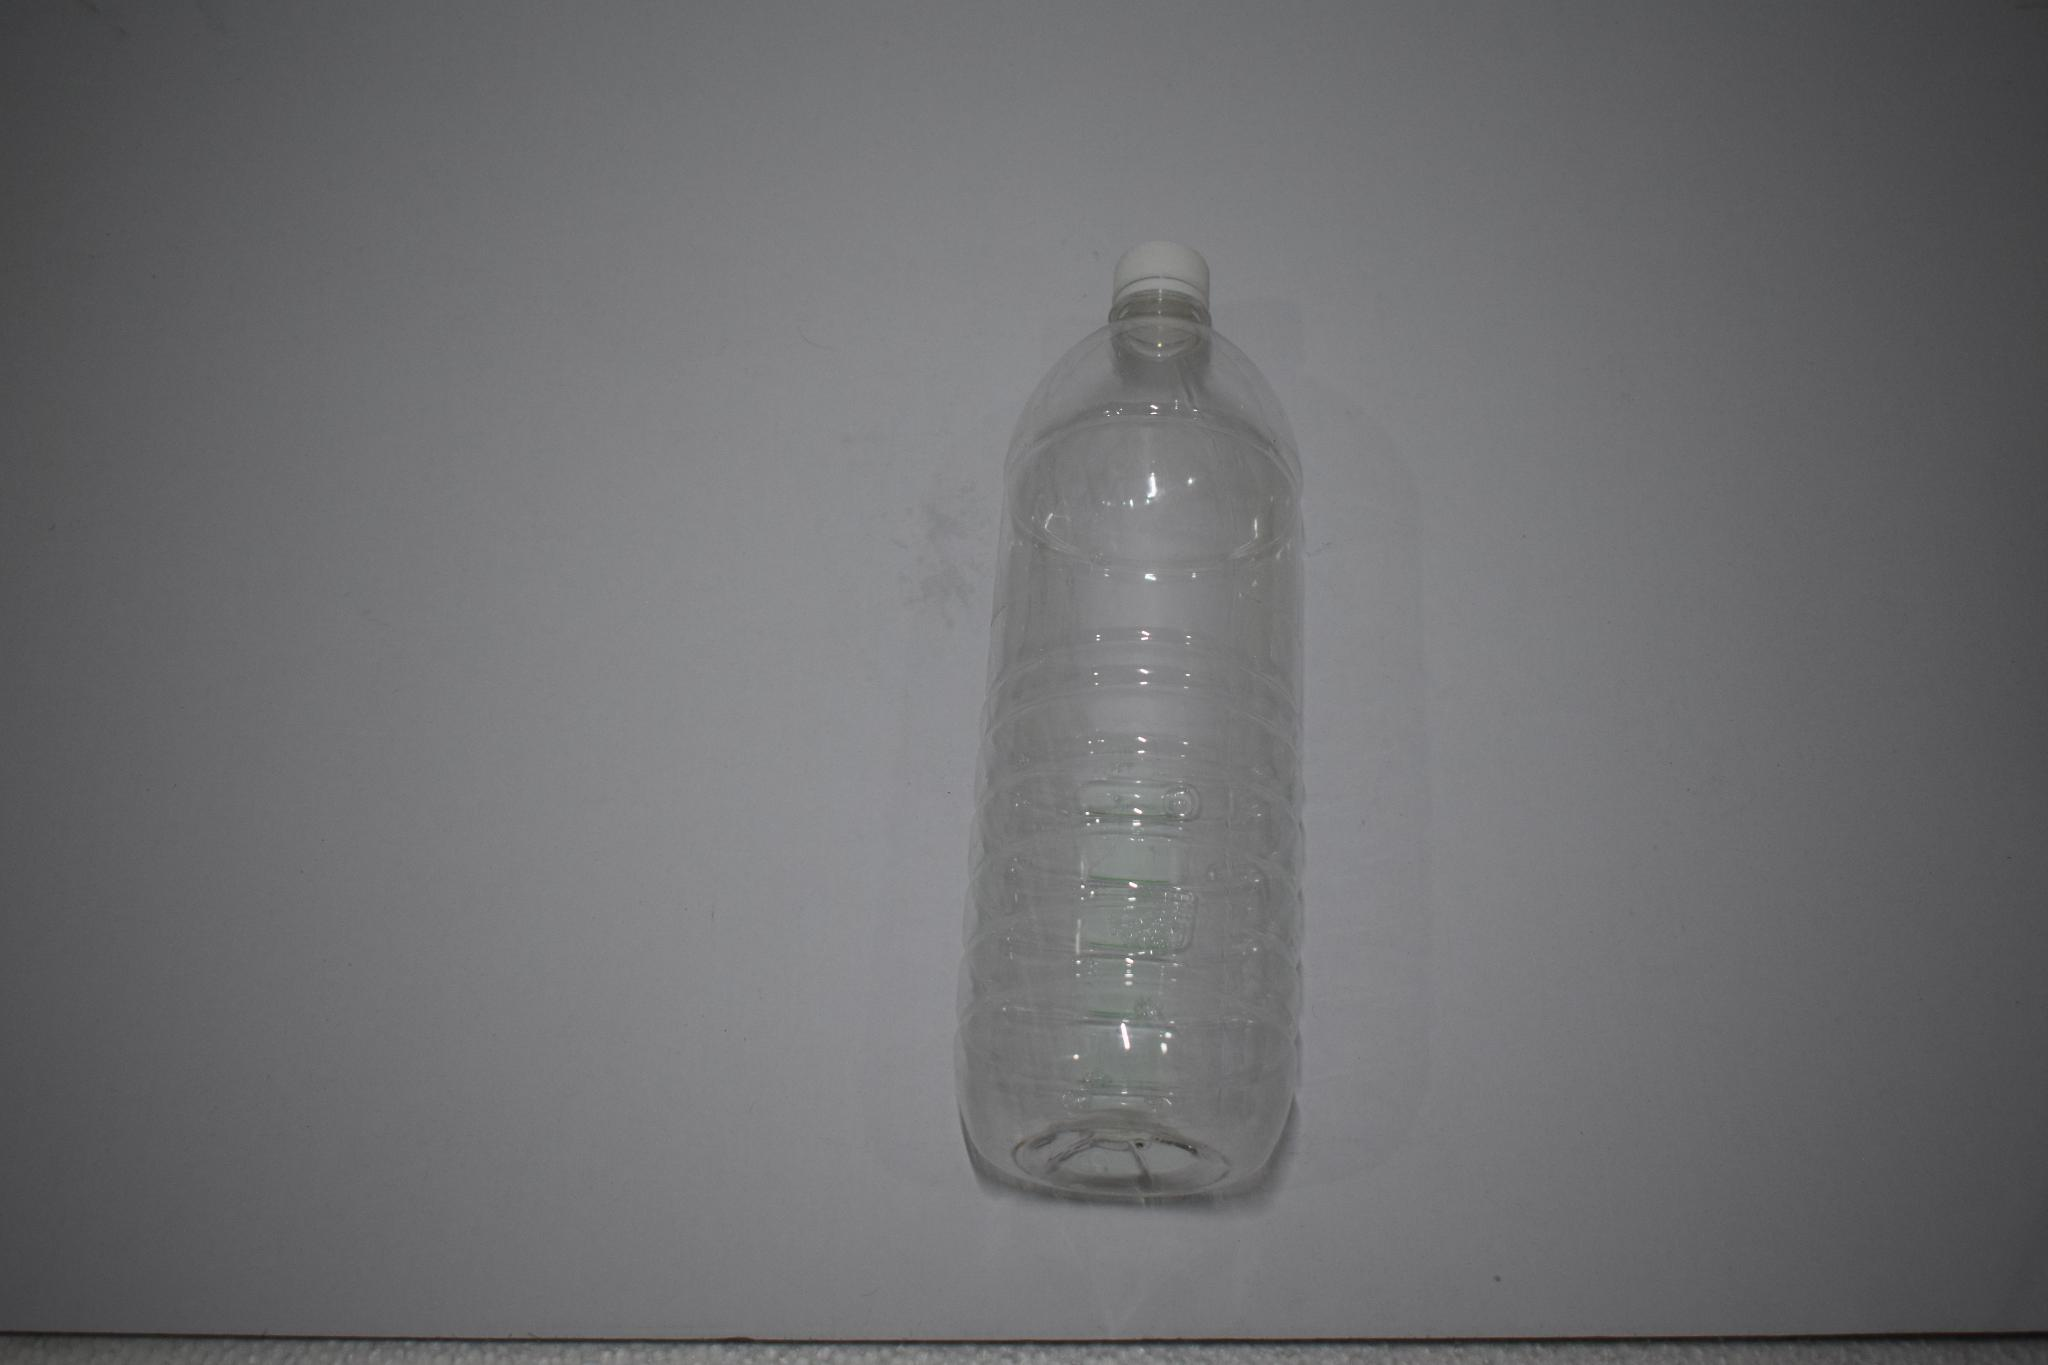bottle: (958, 227, 1324, 1239)
